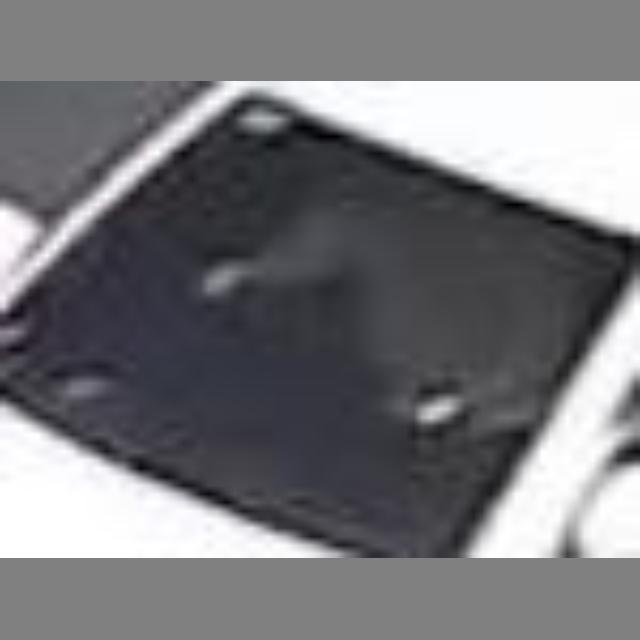tidak-pakai: (299, 183, 572, 422)
